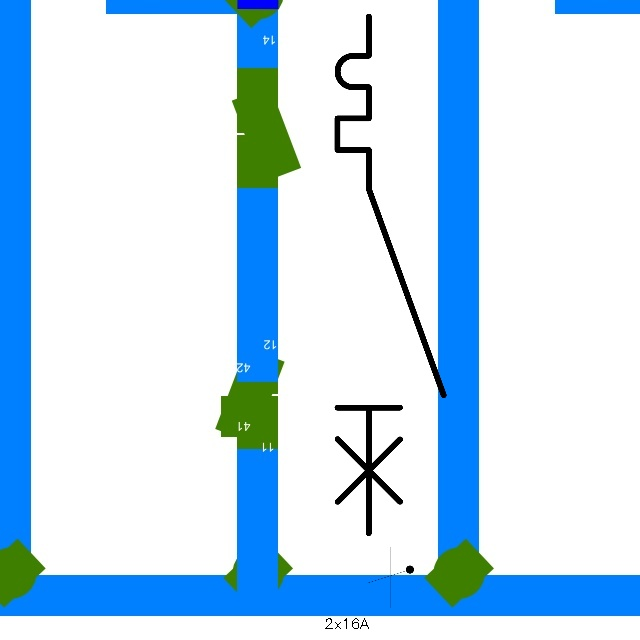interruptor_termomagnetico: (324, 3, 457, 546)
